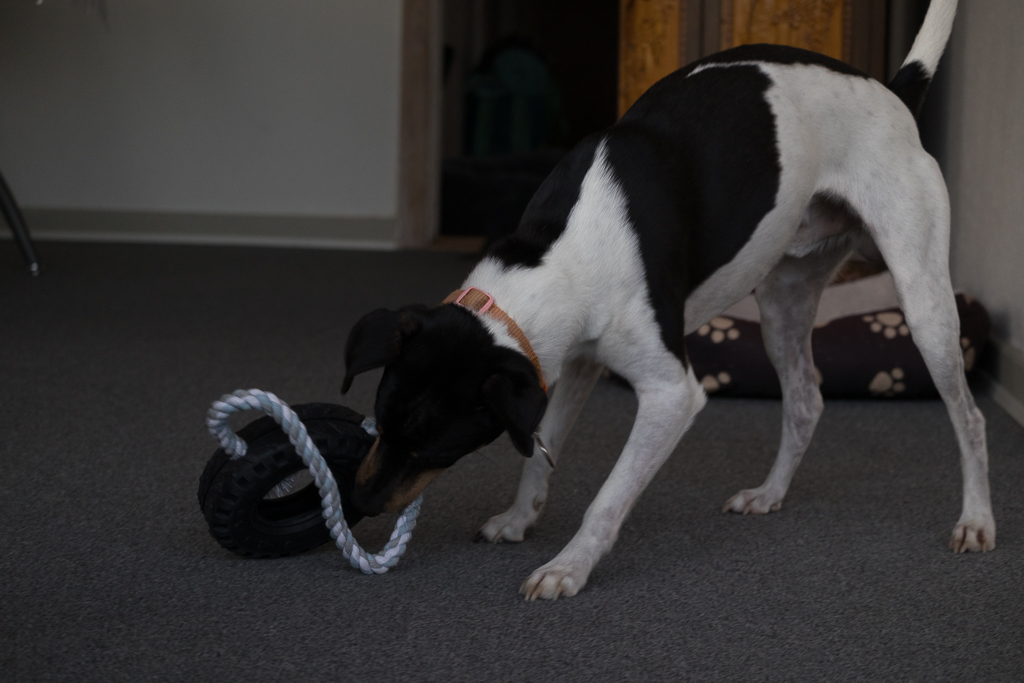Dog: (332, 0, 1005, 609)
